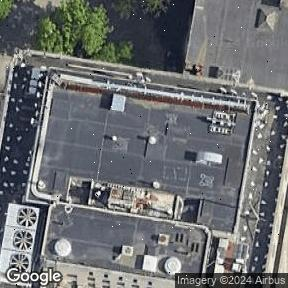vegetation: (36, 0, 174, 63), (0, 0, 17, 22)
